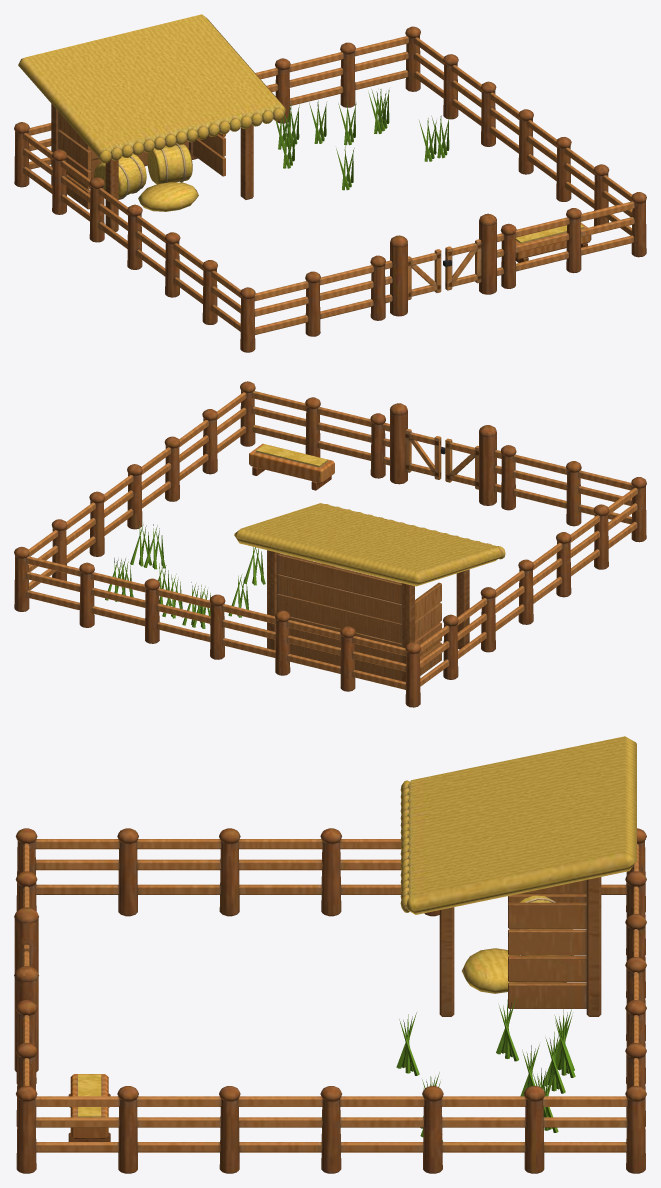
The model's file is emu_ranch.glb.
3 renders of one model, top to bottom at view 1: azimuth 30°, elevation 25°; view 2: azimuth 150°, elevation 25°; view 3: azimuth 270°, elevation 25°, orthographic. The views are drawn at different scales.
Parts seen in each view (by area): view 1: emu_ranch, gate1, gate0; view 2: emu_ranch, gate1, gate0; view 3: emu_ranch.
Part boxes in pixels (x1,y1,x2,y2): emu_ranch: (14, 14, 646, 352); gate1: (443, 239, 481, 290); gate0: (408, 249, 441, 300); emu_ranch: (14, 381, 646, 707); gate1: (405, 428, 445, 479); gate0: (445, 438, 478, 489); emu_ranch: (14, 736, 646, 1173).
Size of the model in its own units: 3 by 0.9759 by 3.01.
1 material, 1 textured.
